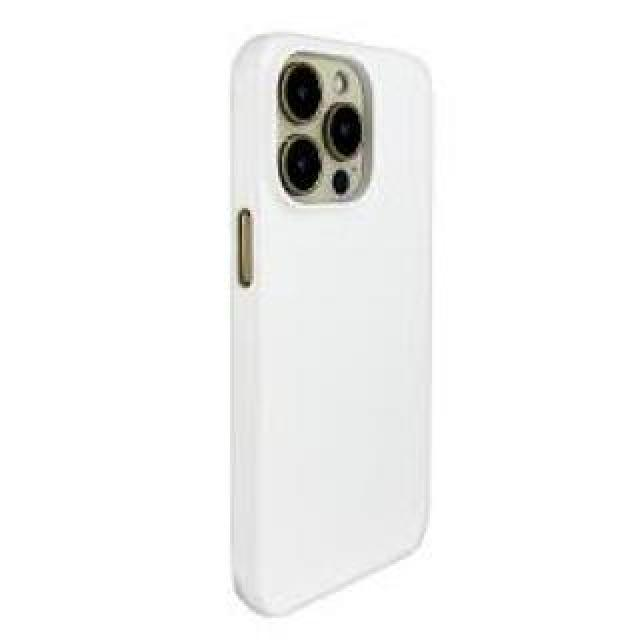smart phone: (217, 0, 488, 620)
